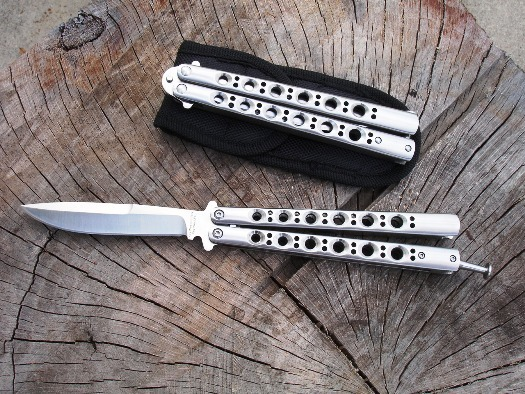knife: (14, 192, 495, 281), (156, 56, 422, 169)
